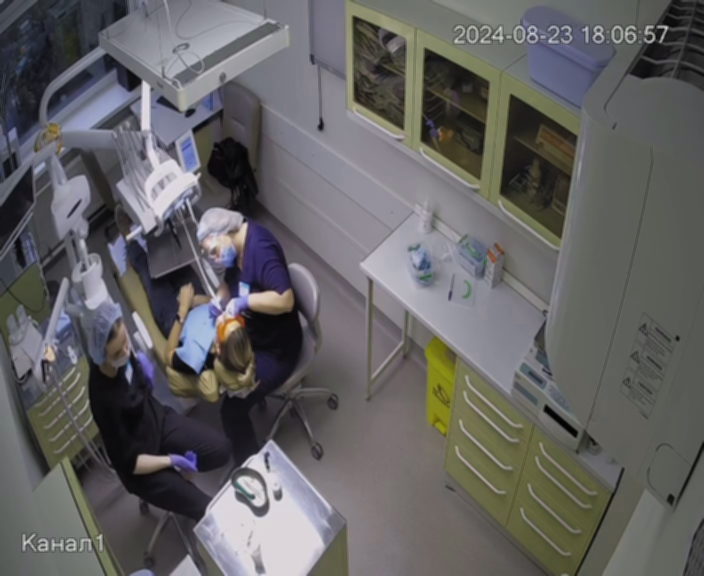Patient: (96, 216, 259, 402)
